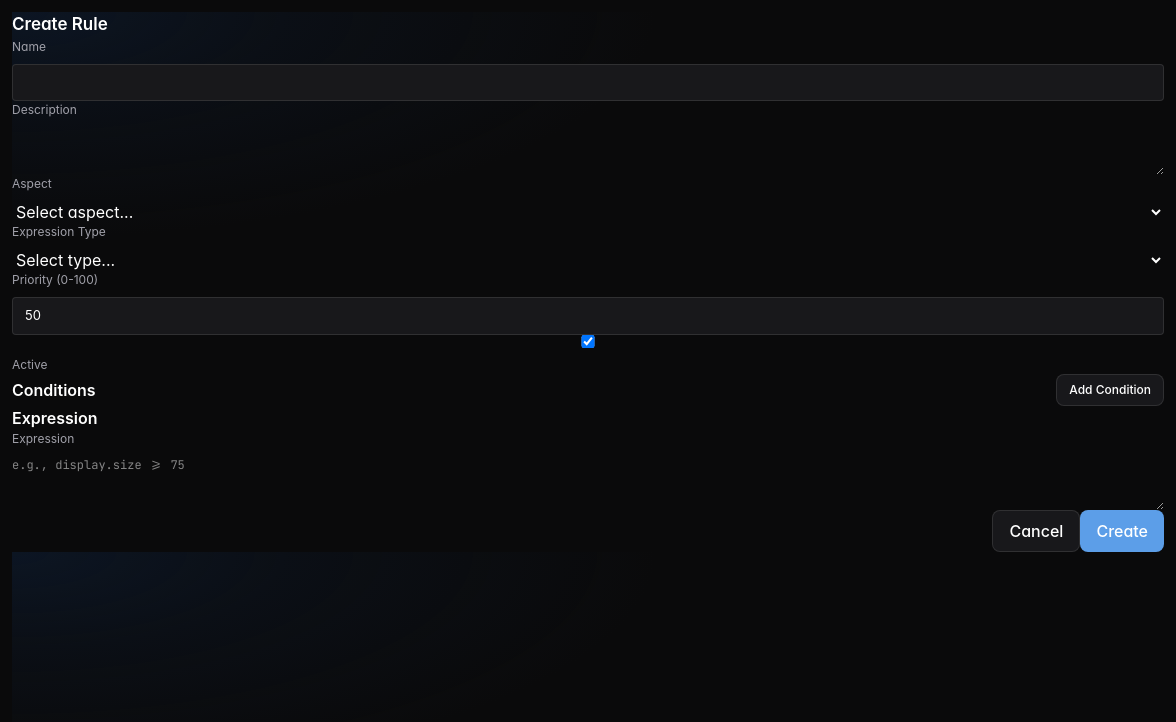
Scenario: RuleEditor › Validation › shows error for empty name
Click the button "Create". click: {"x": 1122, "y": 530}
box: 1080,510 -> 1164,552
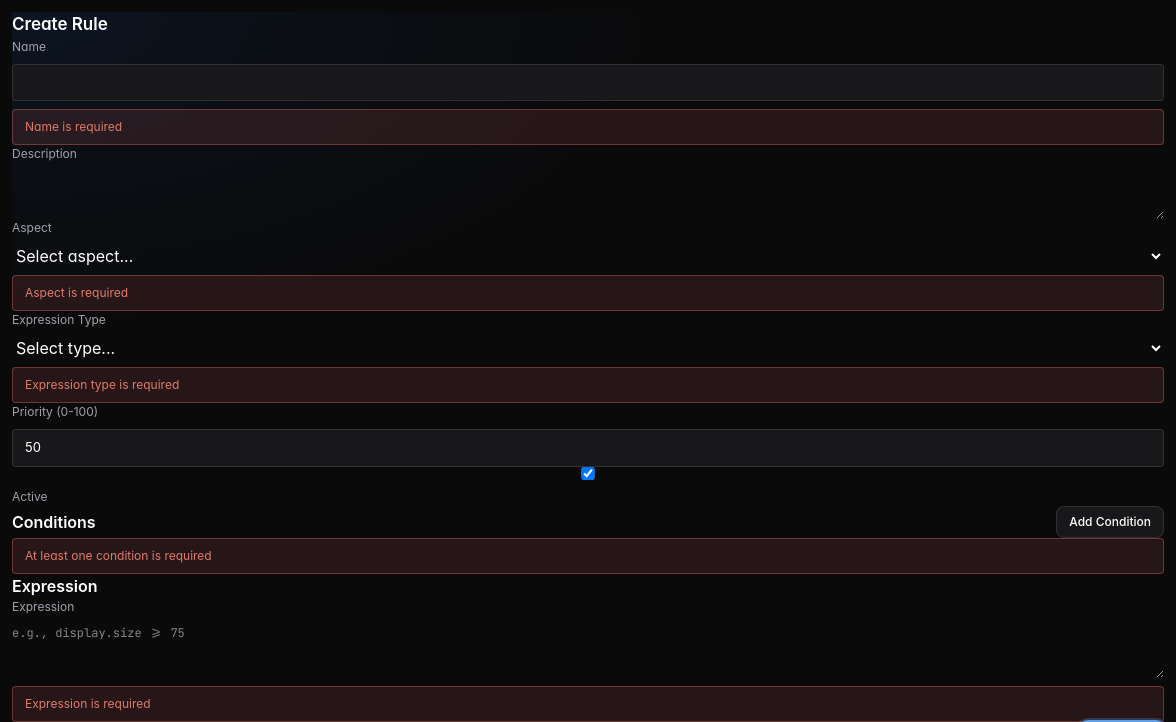
Expected: the text "Name is required" is shown, 12,109 -> 1164,145
